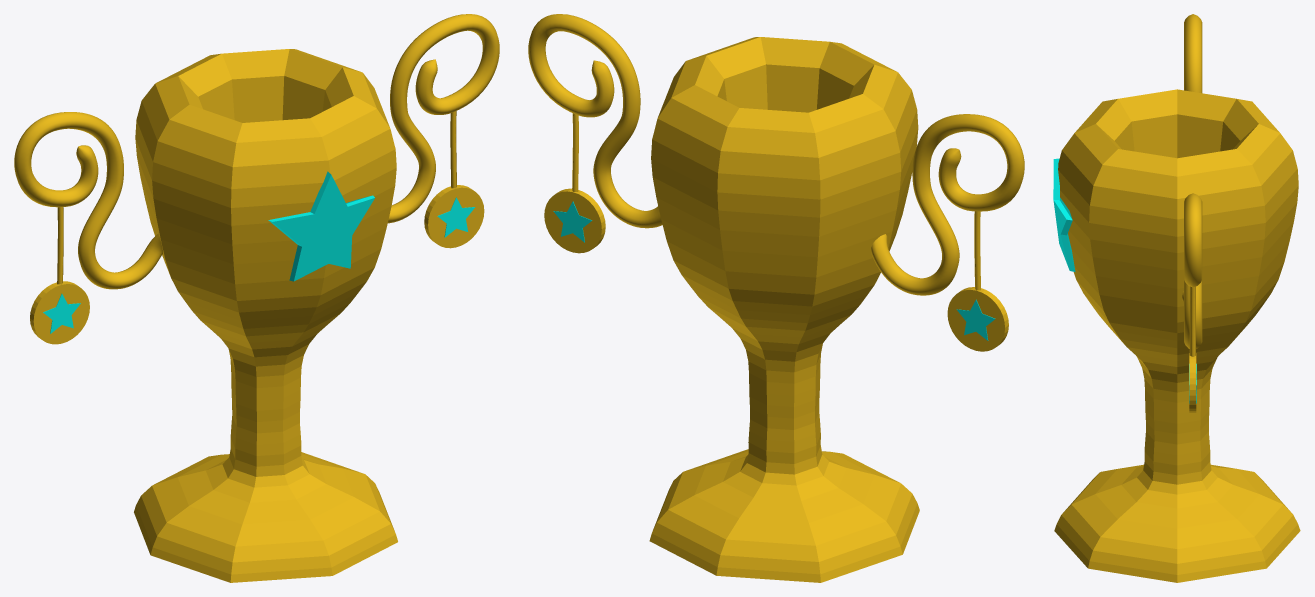
The model's file is Cup.fbx.
3 views of the same model, side by side, from view 1: azimuth 30°, elevation 25°; view 2: azimuth 150°, elevation 25°; view 3: azimuth 270°, elevation 25° (orthographic). The views are drawn at different scales.
Visible parts, largest first — view 1: Cube; view 2: Cube; view 3: Cube.
Boxes of the visible parts, <box> form: Cube: <box>14,14,499,582</box>; Cube: <box>528,14,1024,582</box>; Cube: <box>1053,14,1300,582</box>.
Bounding box in the file's own units: 491 × 448 × 235.
